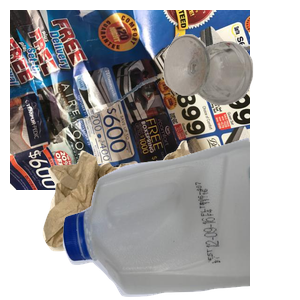glass: (161, 30, 300, 128)
paper: (10, 10, 250, 190)
plastic: (60, 135, 300, 300)
trash: (40, 138, 280, 300)
